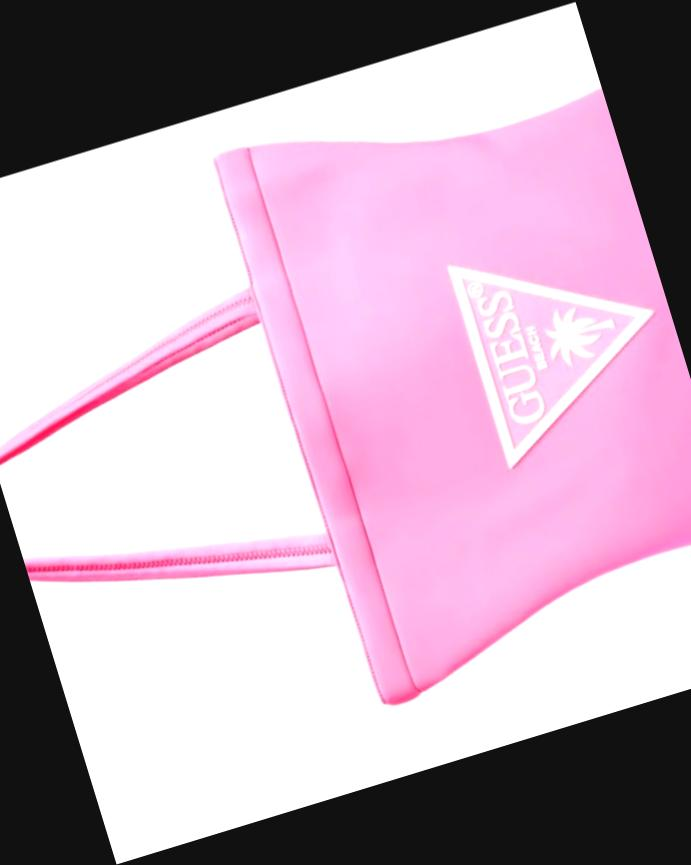GUESS: (474, 288, 548, 428)
